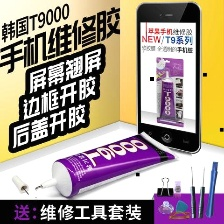phone: (133, 0, 206, 157)
